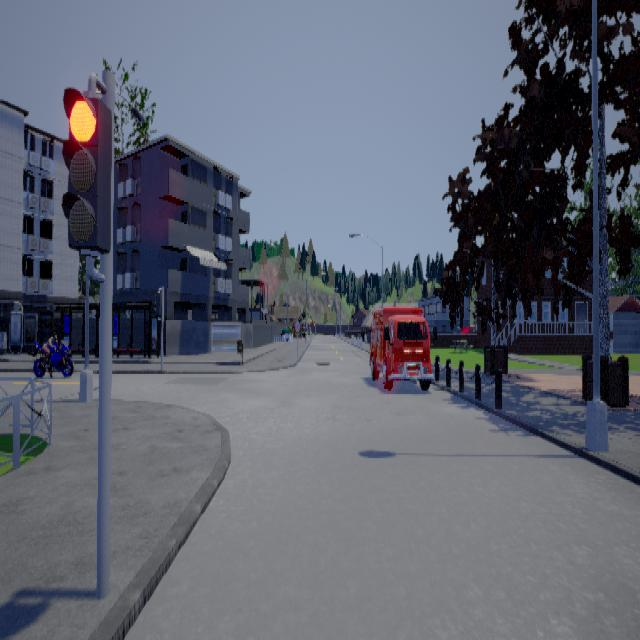motobike: (33, 338, 75, 376)
red_light: (62, 71, 113, 281)
vehicle: (370, 305, 438, 389)
